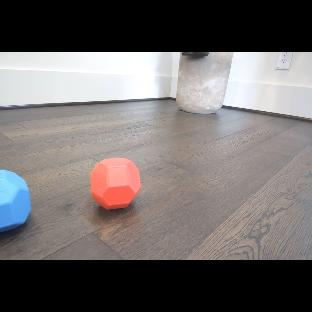V5_BLUE: (90, 157, 141, 210), (0, 170, 32, 233)
